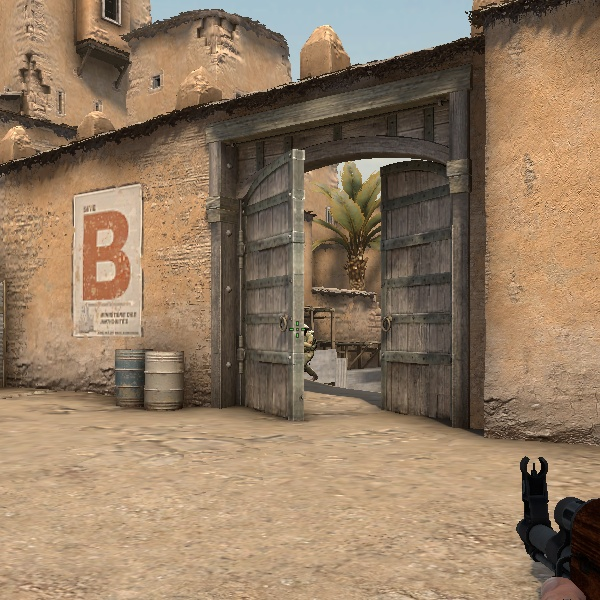ct_body: (299, 323, 318, 381)
ct_head: (303, 324, 309, 337)
